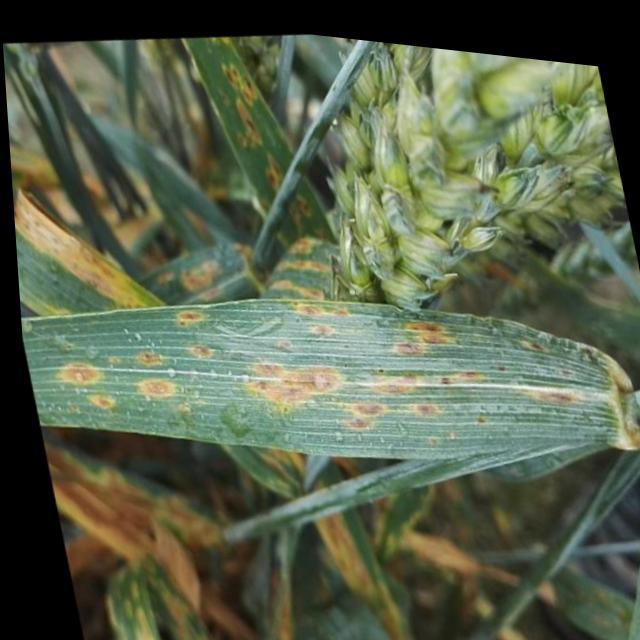Septoria: (10, 192, 636, 453), (185, 34, 294, 203)
